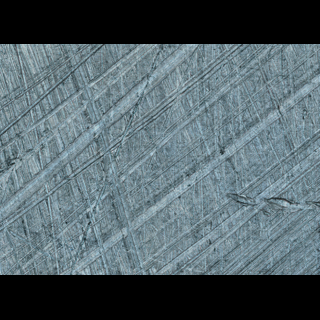d: (222, 188, 319, 220)
